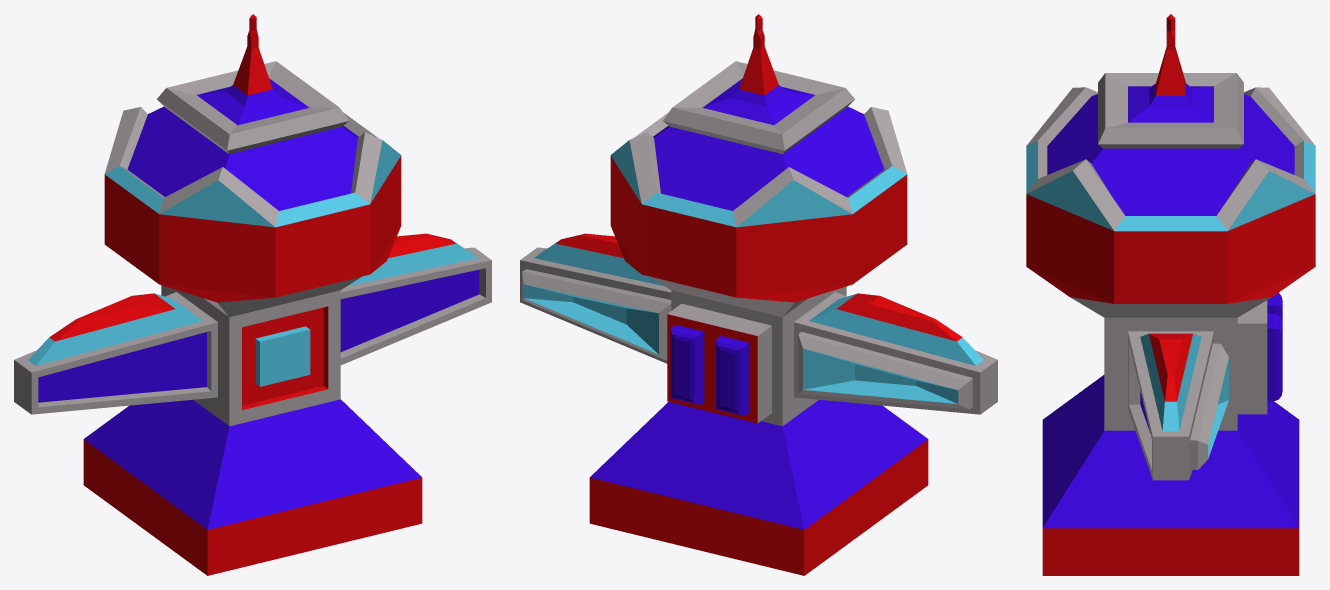
Rendered from TeslaBot-colored_fixed.glb.
3 renders of one model, left to right at view 1: azimuth 30°, elevation 25°; view 2: azimuth 150°, elevation 25°; view 3: azimuth 270°, elevation 25°, orthographic. The views are drawn at different scales.
Parts seen in each view (by area): view 1: Cube; view 2: Cube; view 3: Cube.
Part boxes in pixels (x1,y1,x2,y2): Cube: (14,14,491,575); Cube: (520,14,997,575); Cube: (1026,14,1315,575).
Bounding box in the file's own units: 8.27 × 8.42 × 4.35.
